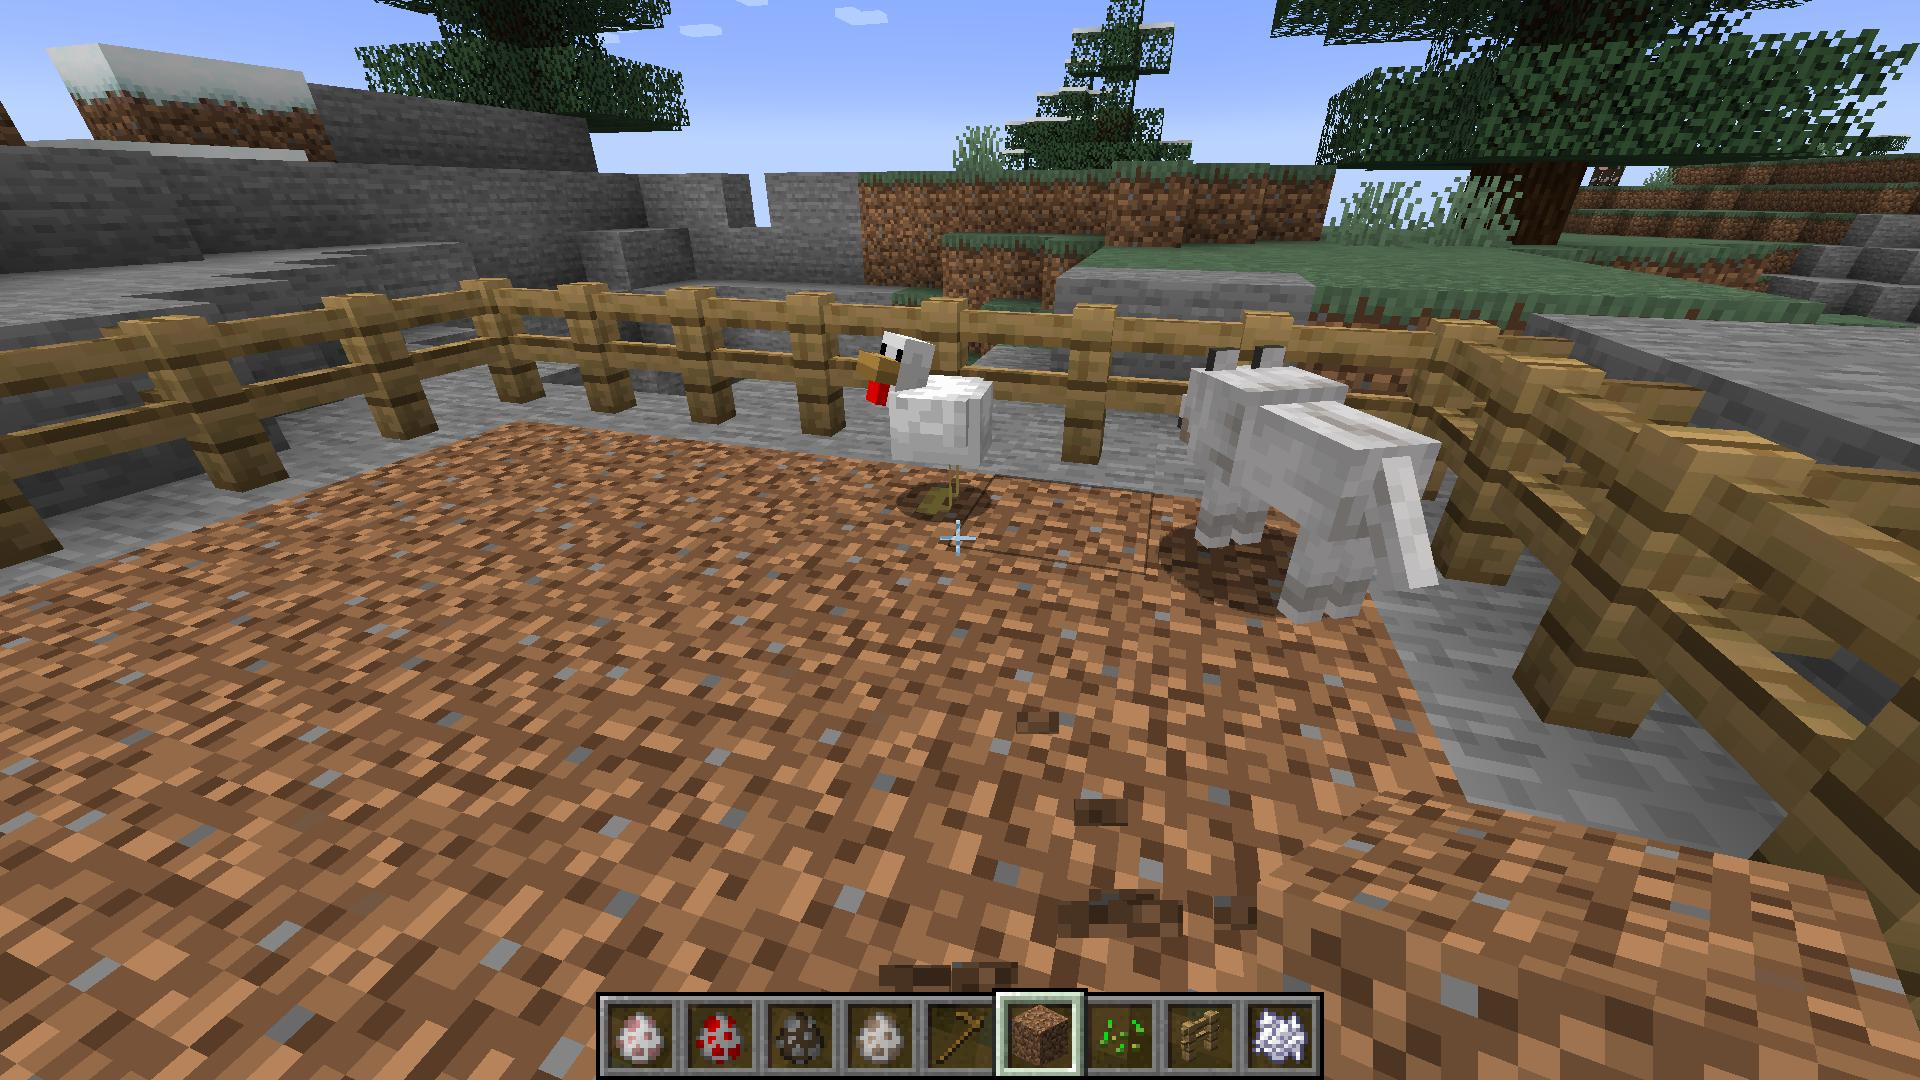chicken: (855, 327, 1002, 522)
wolf: (1174, 342, 1452, 632)
